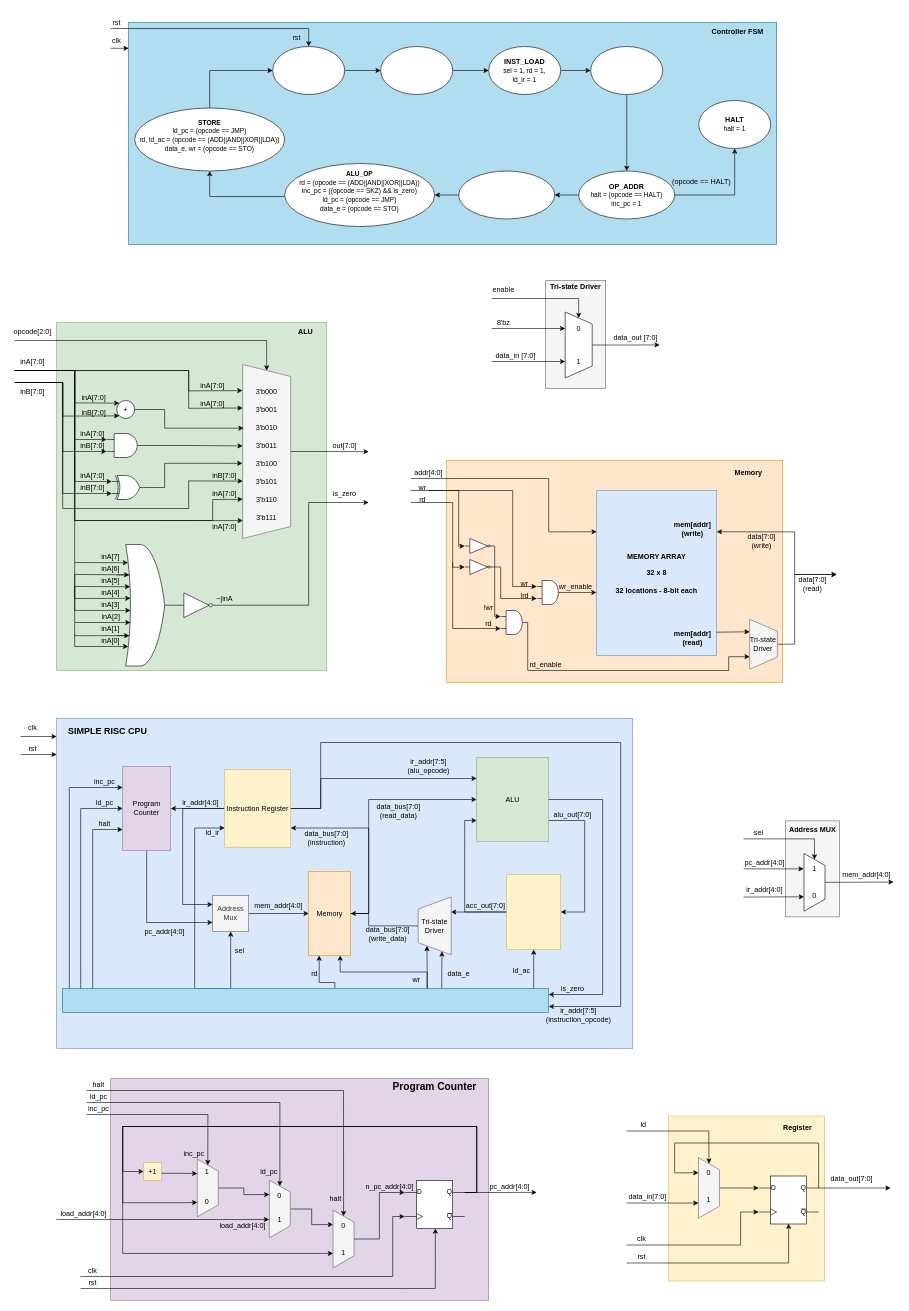
Some shapes in this 909 by 1311 pixel diagram are drawn without their labels. Each missing label, with the centre of its shape:
"Accumulator Register" belongs at (533,912).
"Controller" belongs at (305,1000).
"IDLE sel = 1, rd = 1, ld_ir = 1" belongs at (626,70).
"INST_ADDR sel = 1" belongs at (308,70).
"INST_FETCH sel = 1, rd = 1" belongs at (416,70).
"OP_FETCH rd = (opcode == (ADD||AND||XOR||LDA))" belongs at (506,194).
"|inA" belongs at (146,605).
